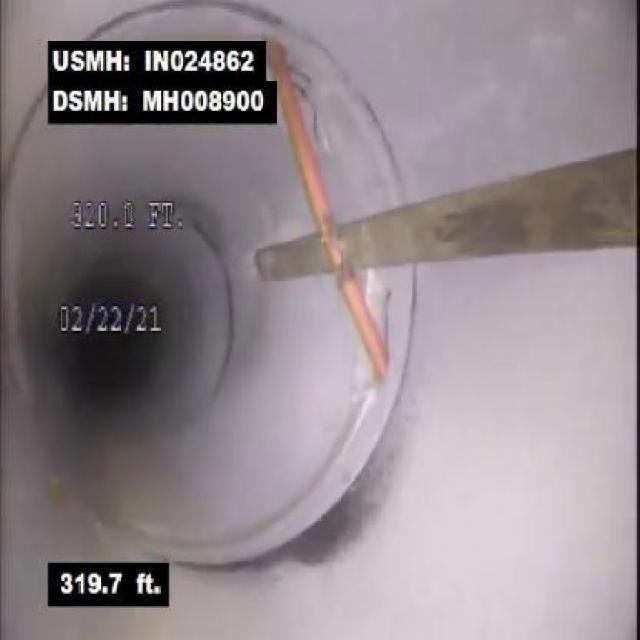Utility intrusion: (280, 84, 391, 396)
